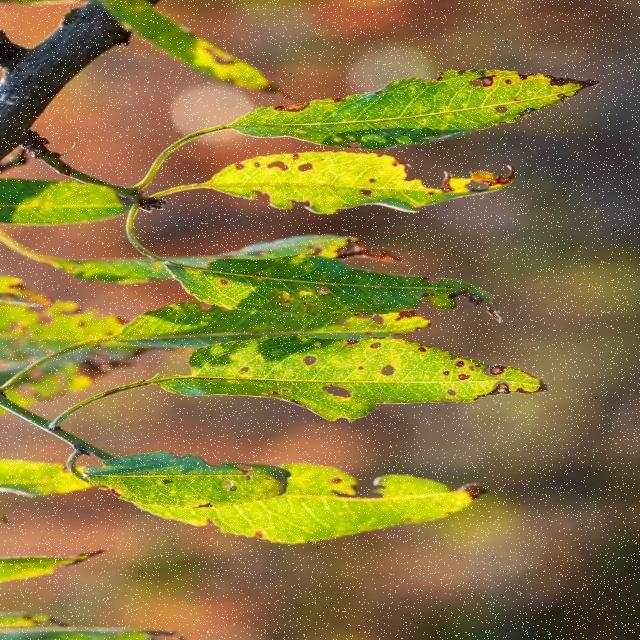leaf_spot: (141, 341, 580, 420), (203, 61, 591, 136), (194, 146, 560, 216)
